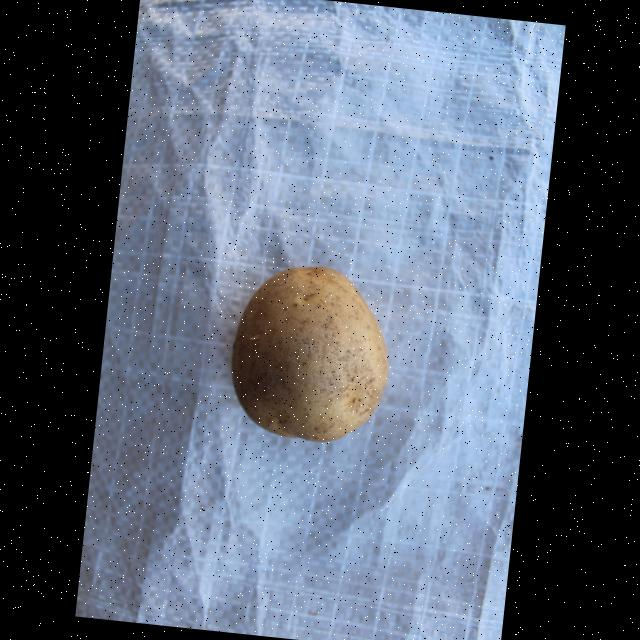Diseased-fungal potato: (220, 254, 400, 448)
